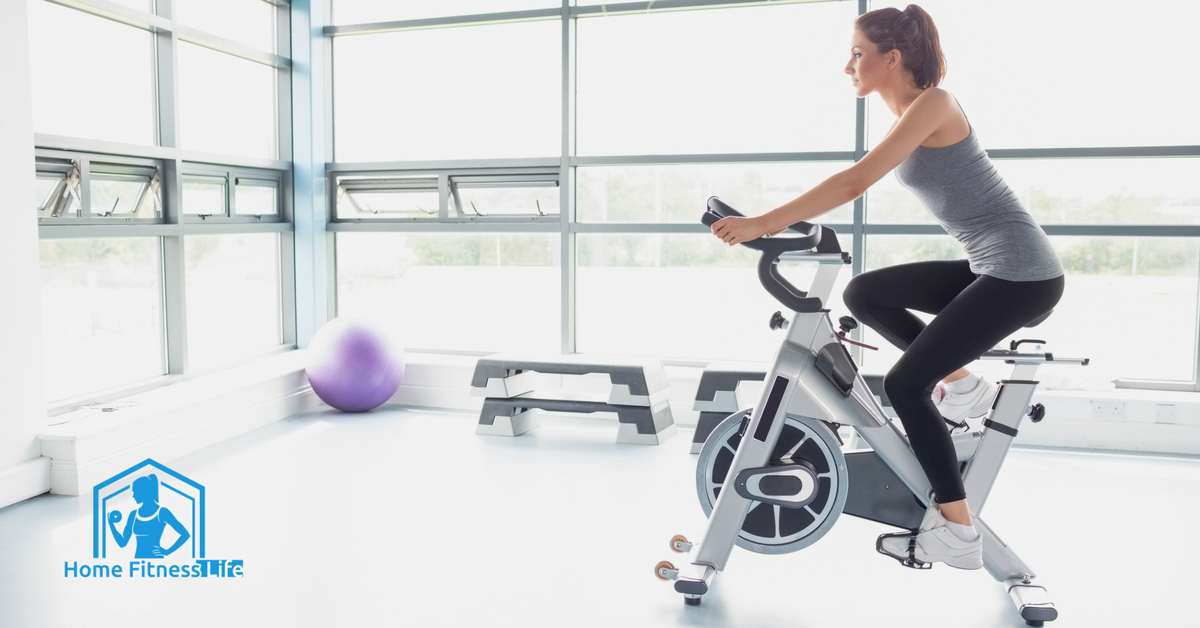gym_bike: (622, 182, 1087, 626)
